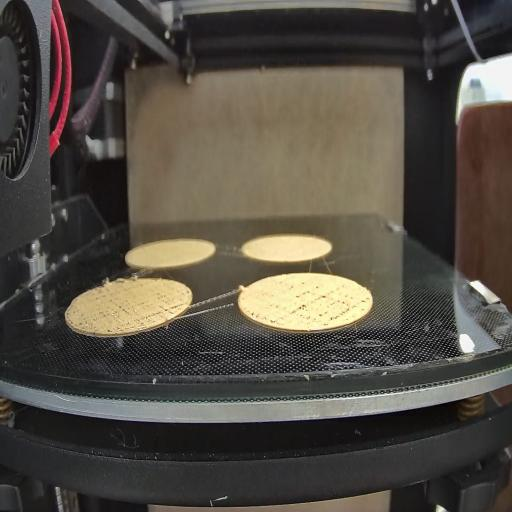under_extrusion: (290, 282, 368, 326), (81, 293, 134, 333), (147, 299, 188, 320), (250, 302, 282, 327)
